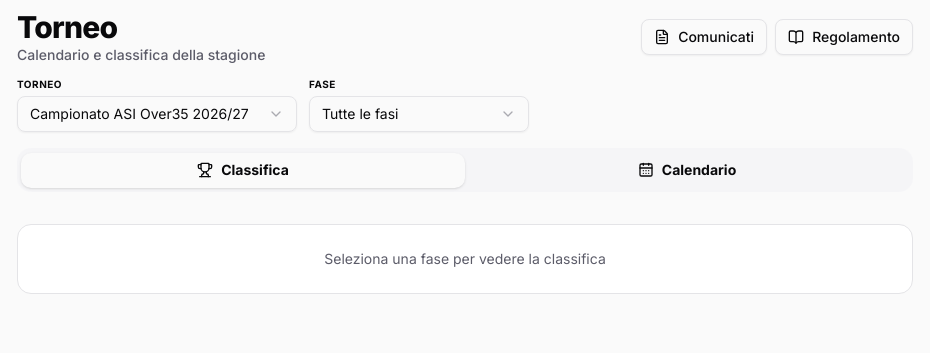
Test case: TournamentSelector › resets phase when the tournament changes
Click the dropdown named "Fase".
click(419, 114)  # box x1=309 y1=96 x2=529 y2=132
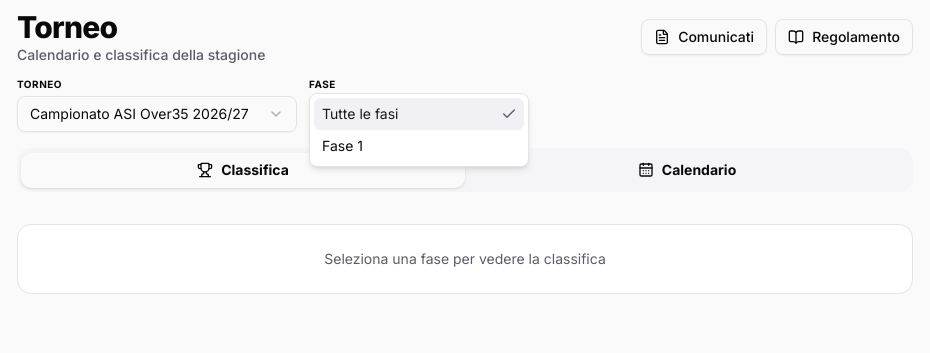
Click the option "Fase 1".
click(342, 146)  # box x1=322 y1=137 x2=363 y2=154
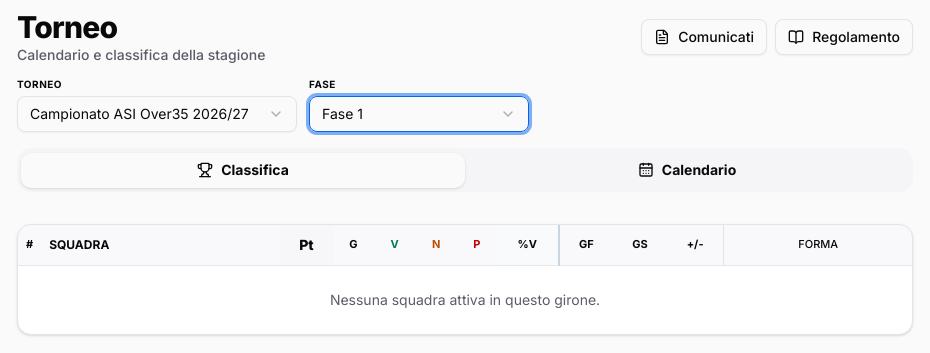
expect the dropdown labelled "Fase" reads "Fase 1": met, box x1=309 y1=96 x2=529 y2=132
Click the dropdown named "Torneo".
click(157, 114)  # box x1=17 y1=96 x2=297 y2=132
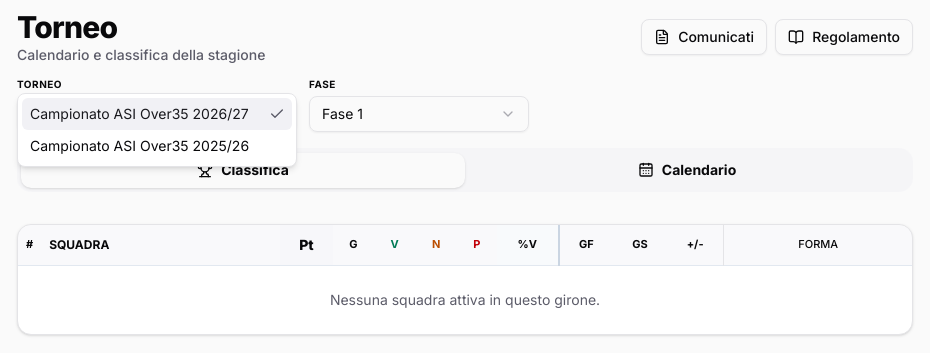
Click the option "Campionato ASI Over35 2025/26".
click(140, 146)  # box x1=30 y1=137 x2=249 y2=154
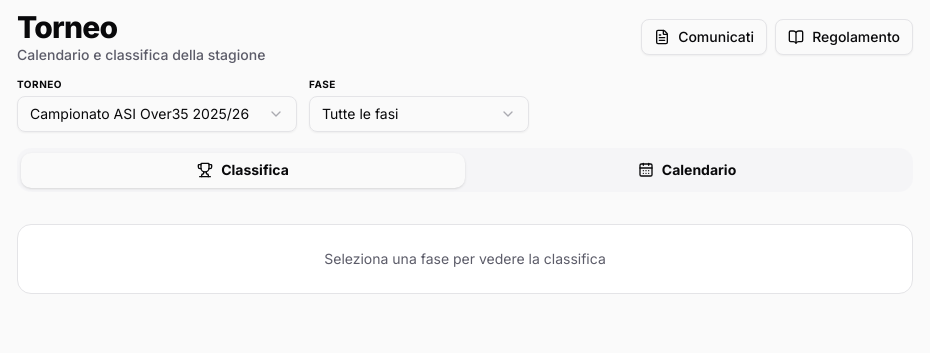
expect the dropdown named "Fase" reads "Tutte le fasi": met, box x1=309 y1=96 x2=529 y2=132
